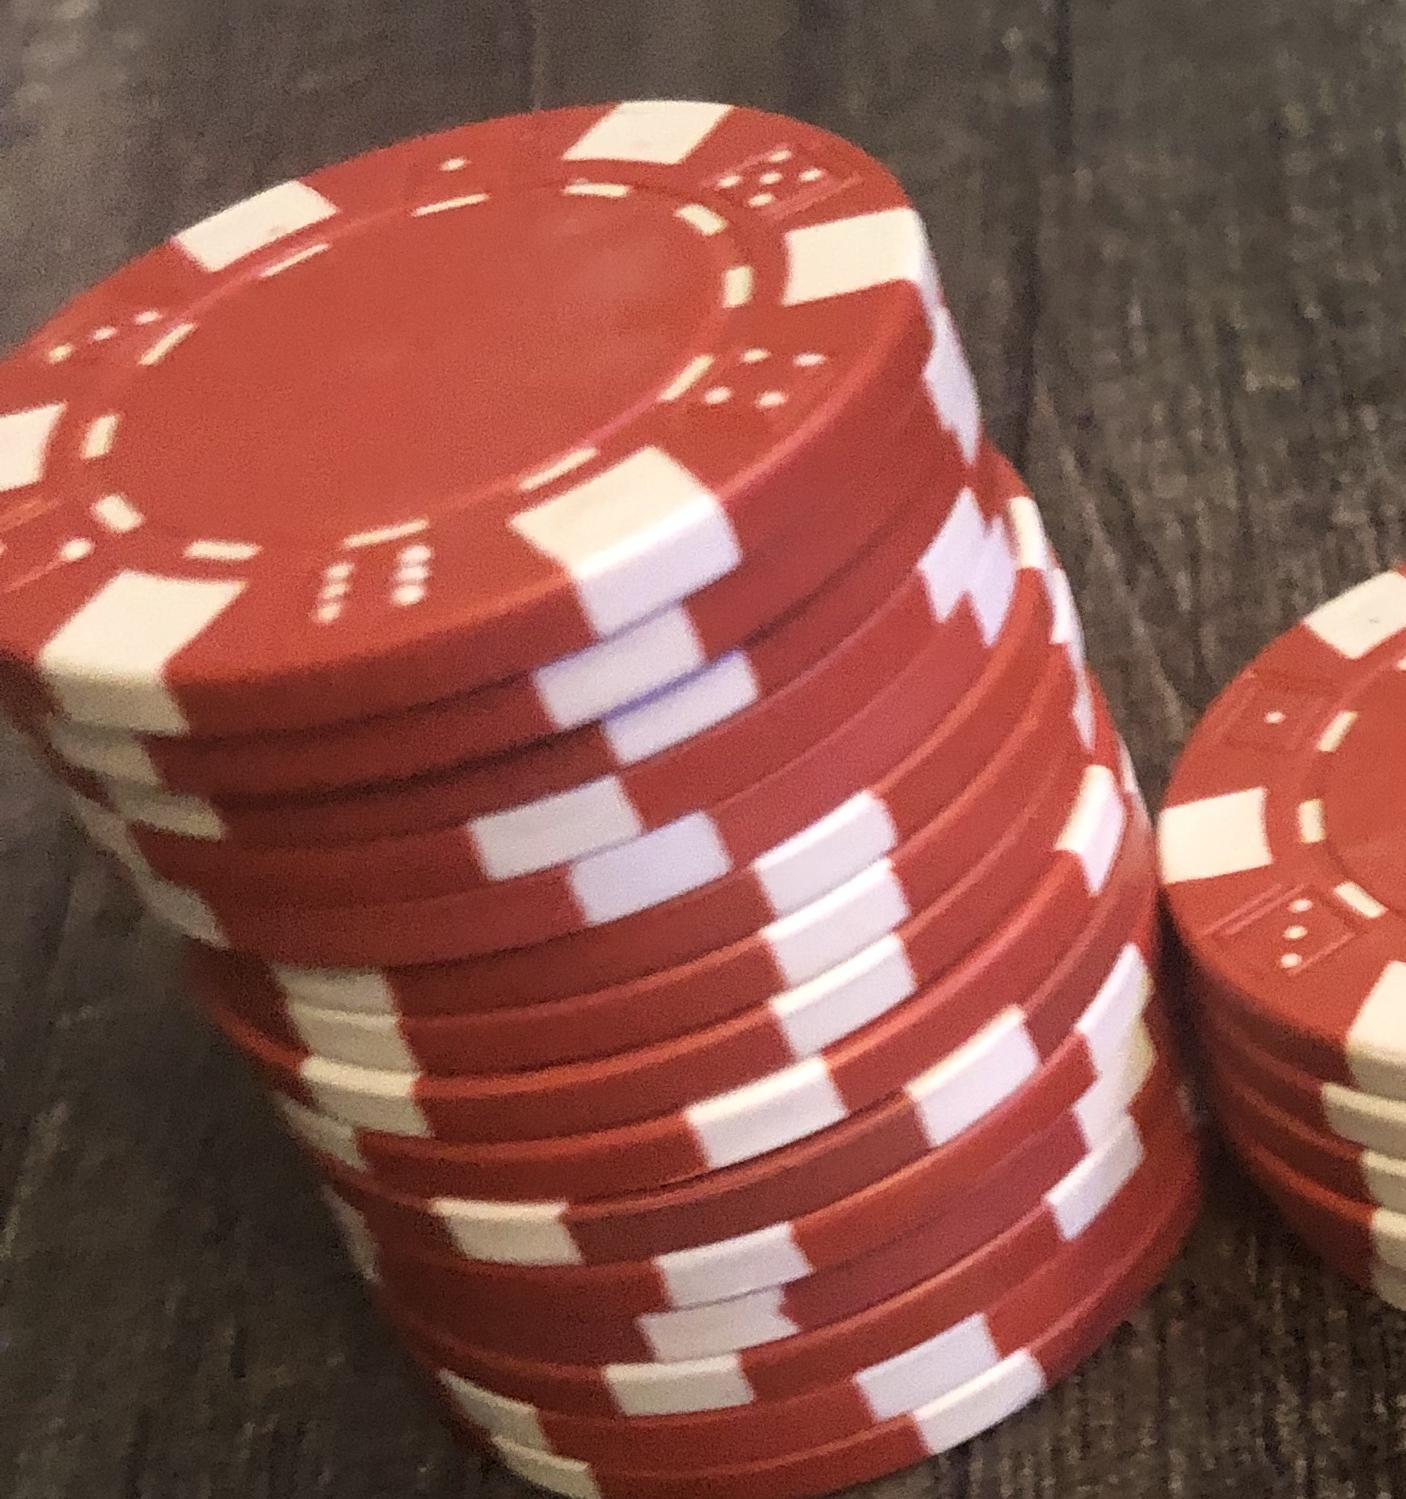Chip: (1, 1, 1406, 1499)
